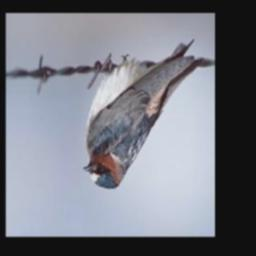Swallow: (85, 36, 204, 190)
